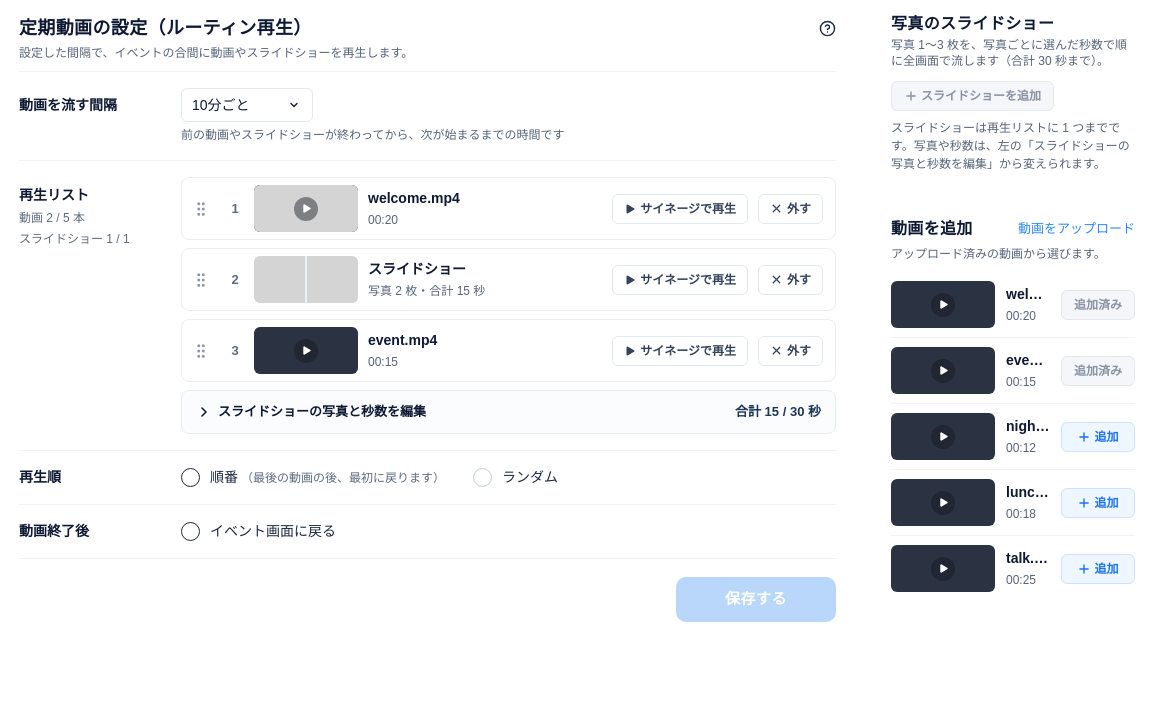
Test: スライドショーの行 › スライドショーは動画の本数（5 本まで）に数えない
Click the button "追加" next to "night.mp4" at (1098, 436), box top-left (1061, 422), bottom-right (1135, 452)
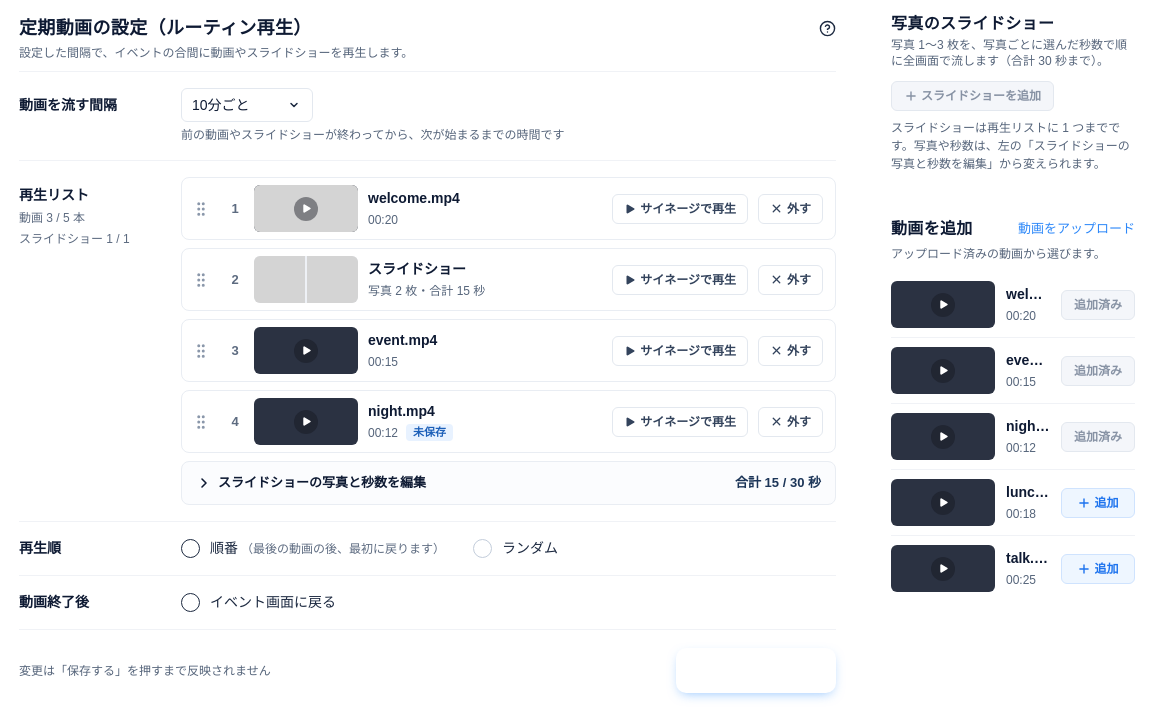
Click the button "追加" next to "lunch.mp4" at (1098, 502), box top-left (1061, 488), bottom-right (1135, 518)
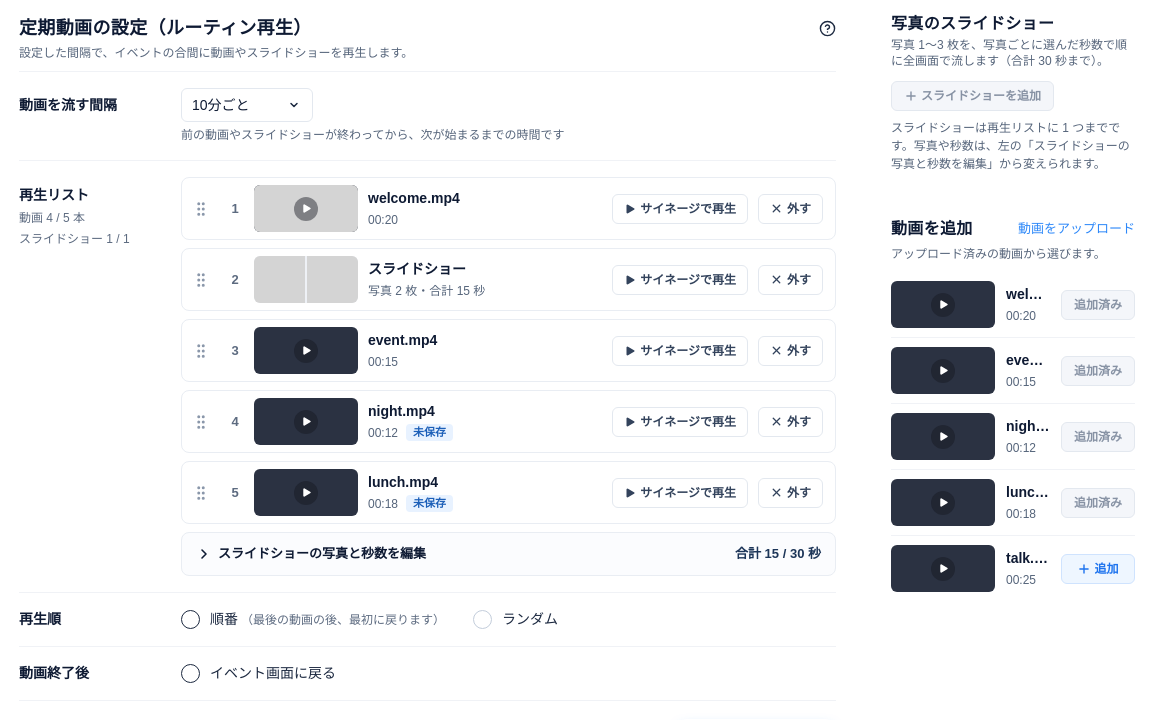
Click the button "追加" at (1098, 568), box top-left (1061, 554), bottom-right (1135, 584)
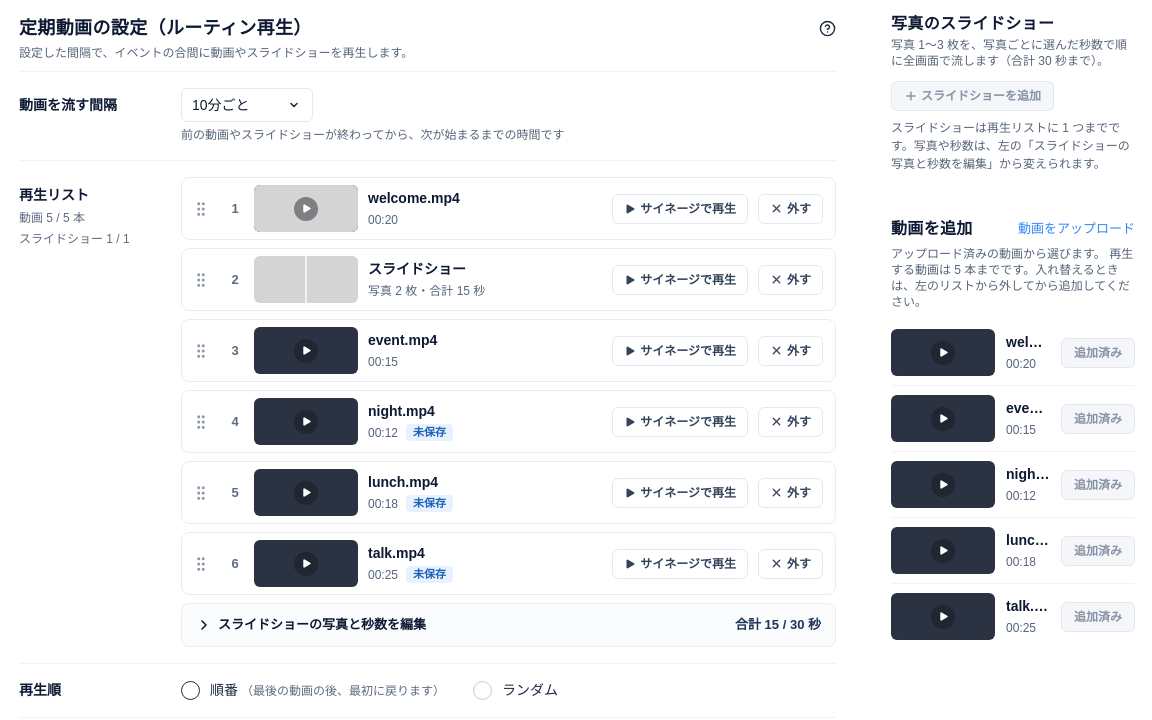
Now the text "動画 5 / 5 本" is shown, box top-left (19, 211), bottom-right (85, 225)
Now the text "再生する動画は 5 本までです" is shown, box top-left (891, 247), bottom-right (1133, 309)
